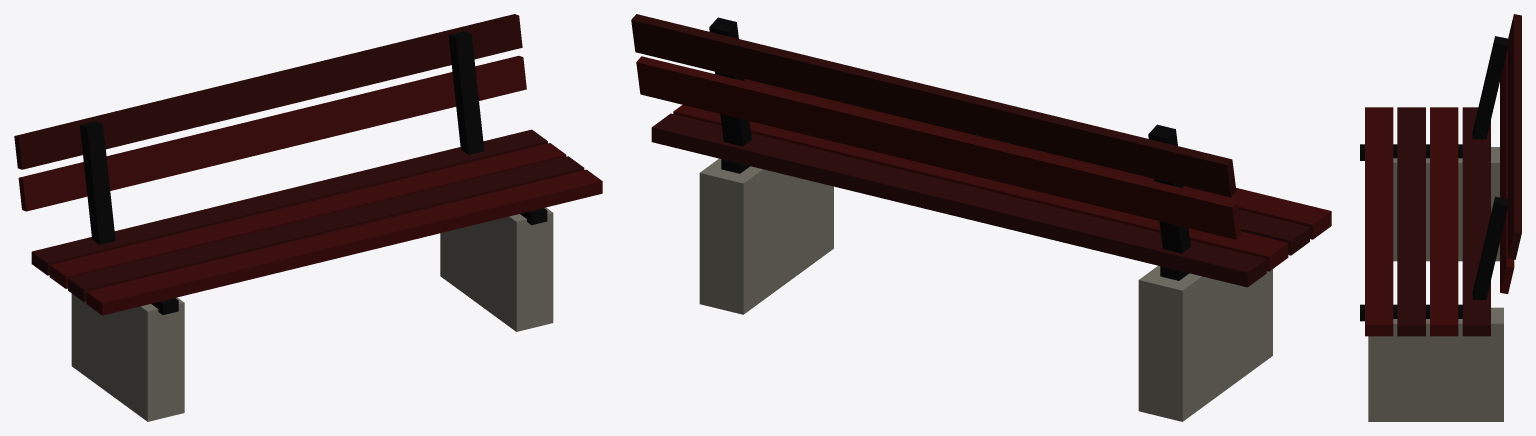
Rendered from klupa-crvena.glb.
3 views of the same model, side by side, from view 1: azimuth 30°, elevation 25°; view 2: azimuth 150°, elevation 25°; view 3: azimuth 270°, elevation 25° (orthographic). The views are drawn at different scales.
Visible parts, largest first — view 1: klupa-crvena; view 2: klupa-crvena; view 3: klupa-crvena.
Part boxes in pixels (x1,y1,x2,y2): klupa-crvena: (14,14,602,421); klupa-crvena: (631,14,1331,421); klupa-crvena: (1360,14,1521,421).
Bounding box in the file's own units: 1.9 × 0.8697 × 0.5961.
1 material, 1 textured.
